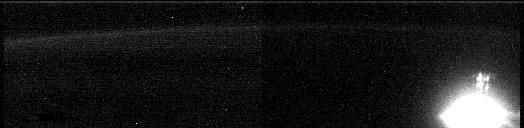positive: (473, 69, 492, 97)
